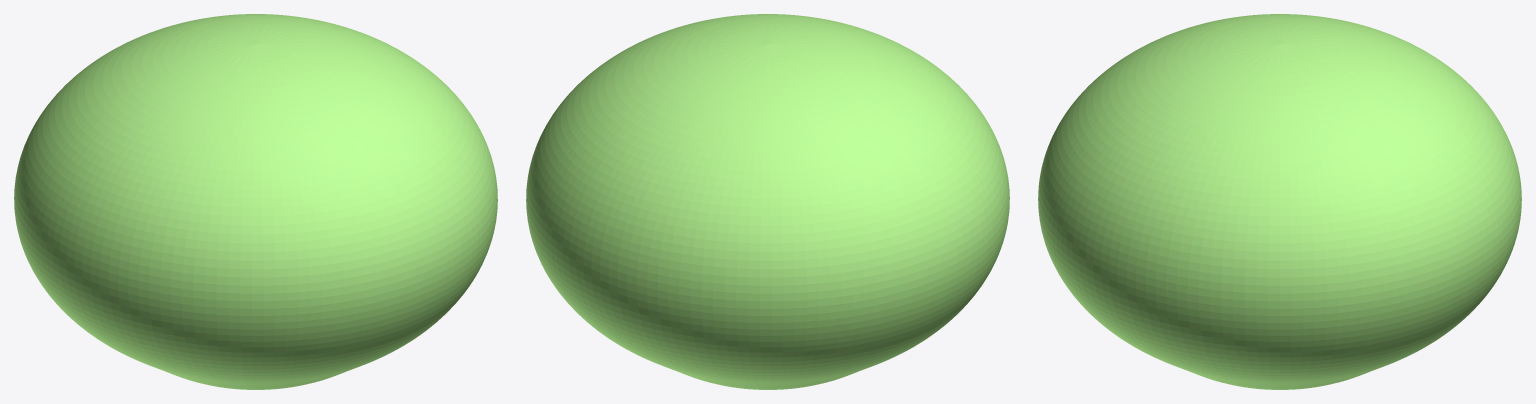
Rendered from Blobby.fbx.
3 renders of one model, left to right at view 1: azimuth 30°, elevation 25°; view 2: azimuth 150°, elevation 25°; view 3: azimuth 270°, elevation 25°, orthographic.
Visible parts, largest first — view 1: Blobby; view 2: Blobby; view 3: Blobby.
Part boxes in pixels (x1,y1,x2,y2): Blobby: (14,14,497,389); Blobby: (526,14,1009,389); Blobby: (1038,14,1521,389).
Size of the model in its own units: 0.9872 by 0.6992 by 0.9872.
